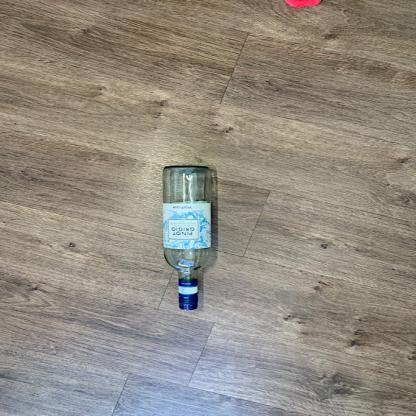trash: (160, 165, 216, 315)
